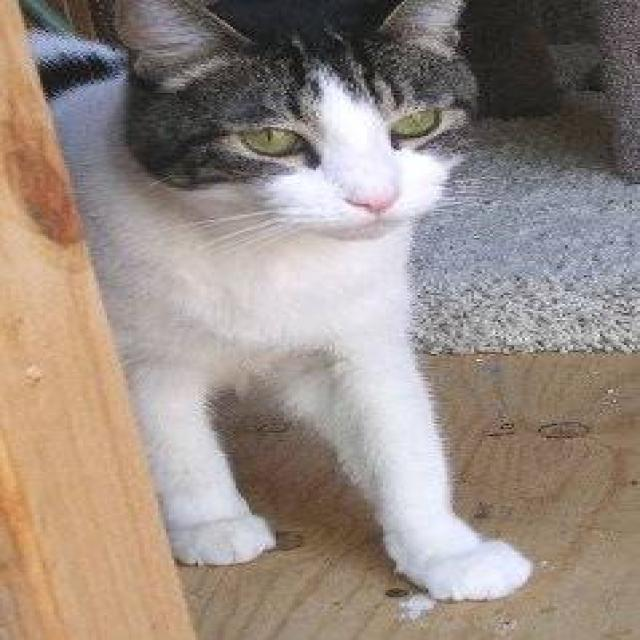cat: (46, 0, 536, 610)
